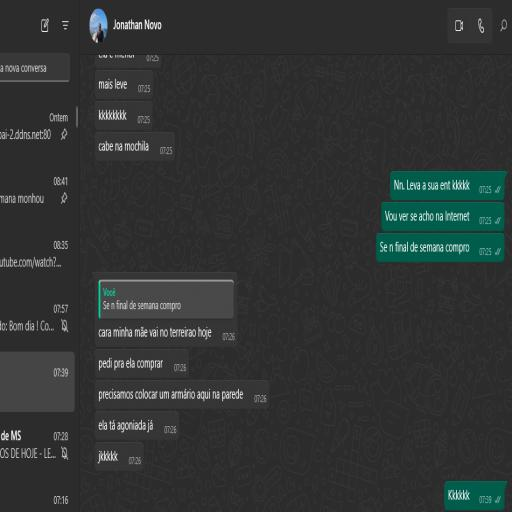mensagem-enviada: (376, 233, 503, 261)
